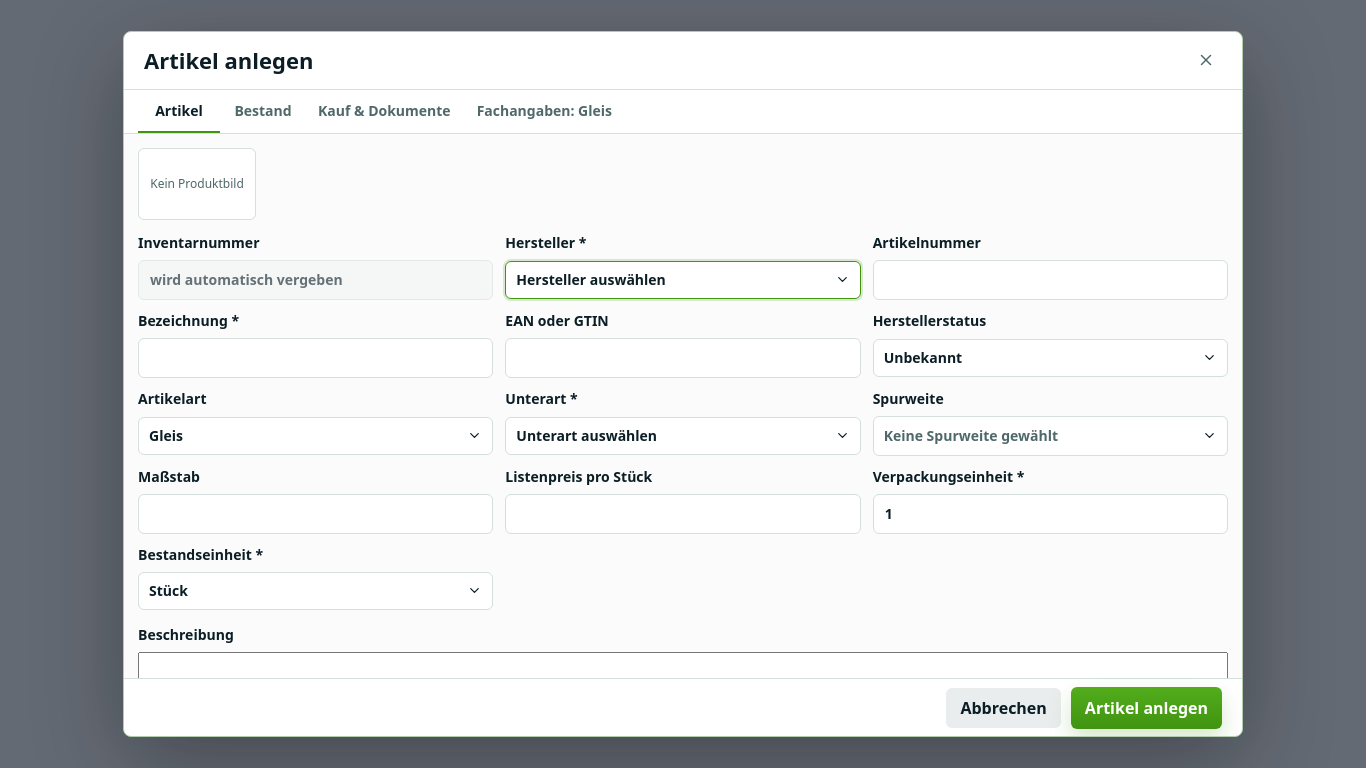
Scenario: ArticleEditorDialog › prompts when a non-empty incompatible draft is hidden beside an empty compatible draft
This screenshot has width=1366, height=768.
Click the button with aria-label "Artikelart" at [166, 436], box [138,417,493,455]
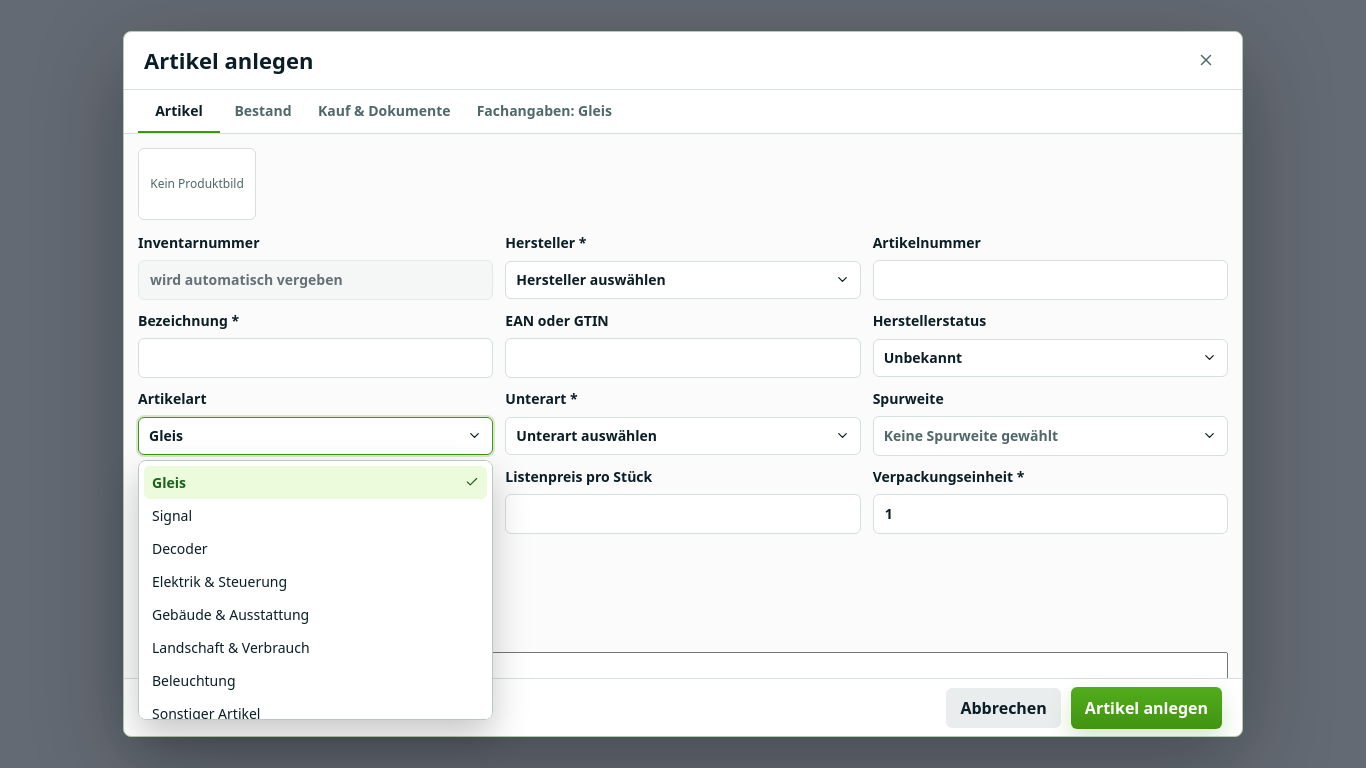
Click the option "Beleuchtung" at [194, 680], box [144,664,487,697]
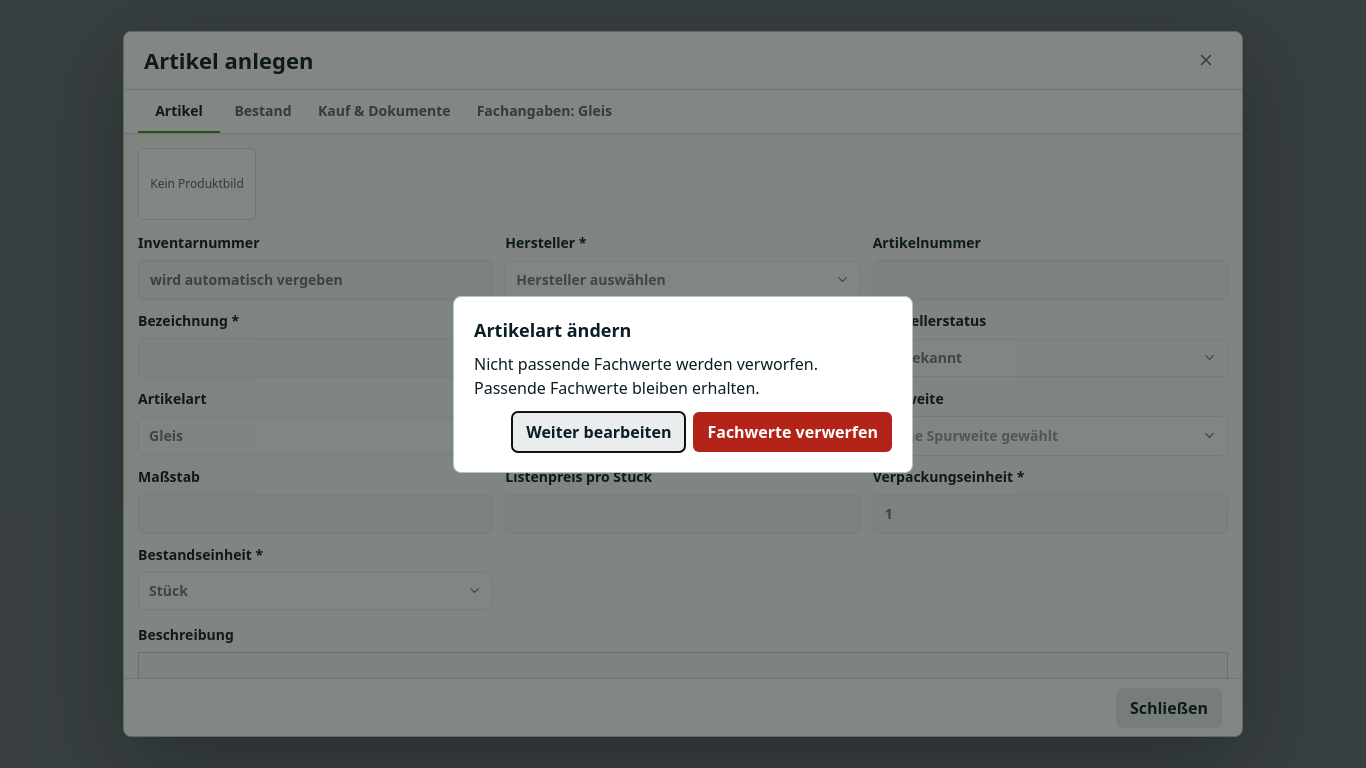
expect the dialog "Artikelart ändern" is shown: met
